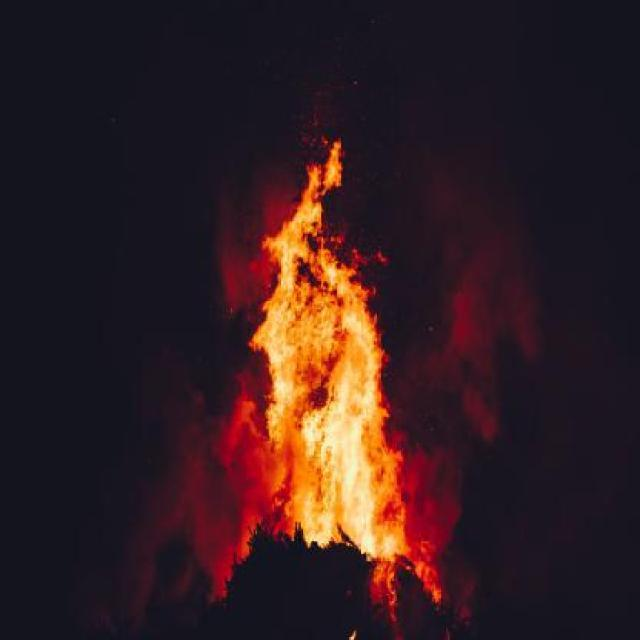Fire: (223, 117, 462, 638)
Smoke: (367, 69, 533, 602), (104, 354, 258, 600), (210, 167, 270, 323)
